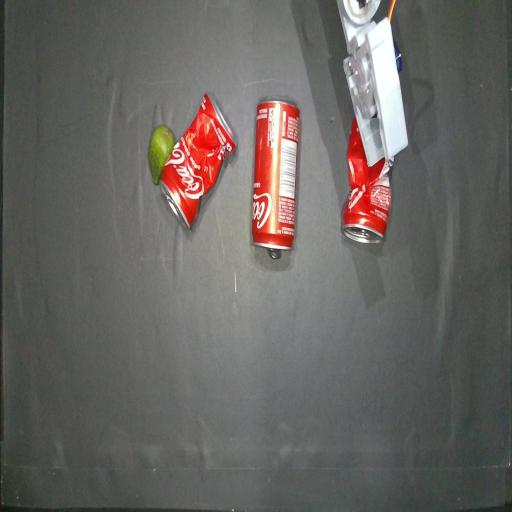higo: (148, 125, 175, 185)
lata: (251, 97, 300, 258)
lata_defectuoso: (160, 94, 236, 229), (342, 120, 394, 242)
